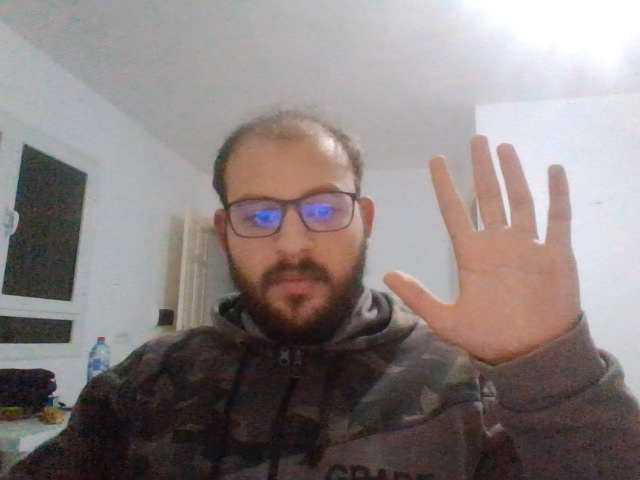Hello: (392, 140, 584, 350)
